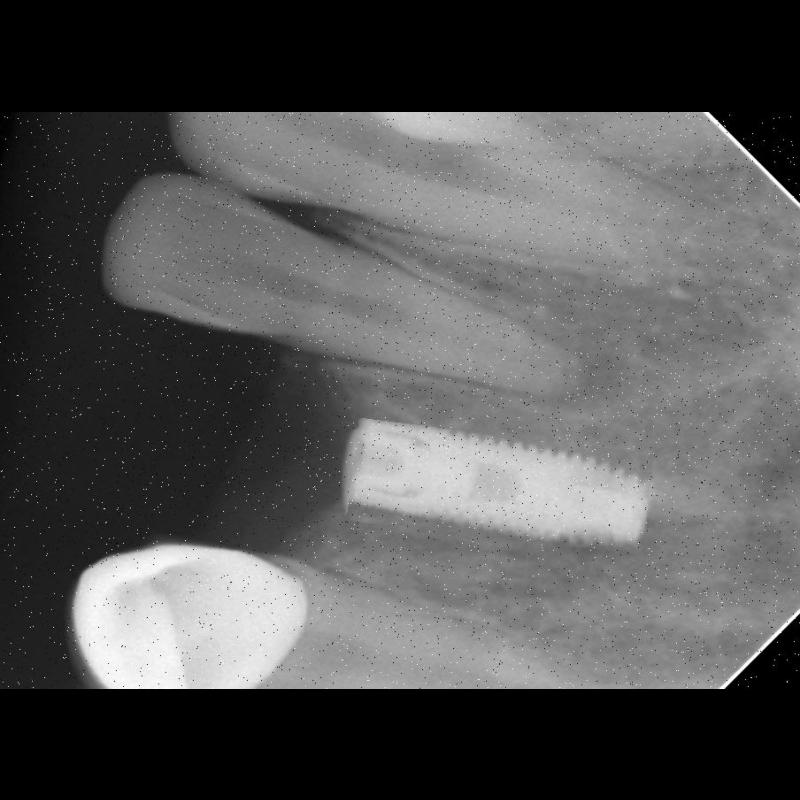ADIN: (350, 427, 652, 546)
